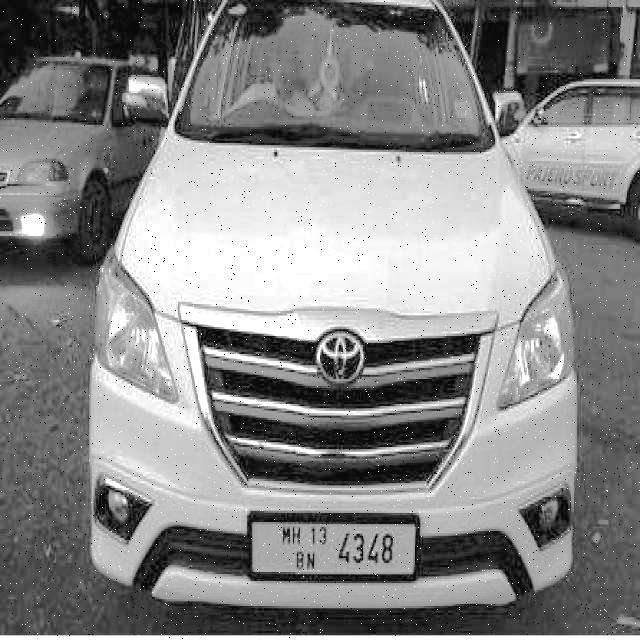Car: (89, 0, 573, 640), (1, 56, 143, 248), (506, 83, 640, 216)
